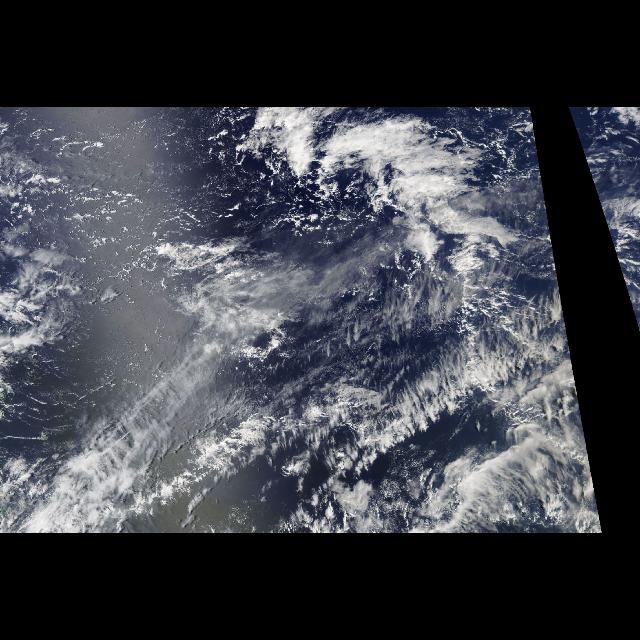Fish: (228, 108, 522, 284)
Gravel: (2, 114, 348, 248)
